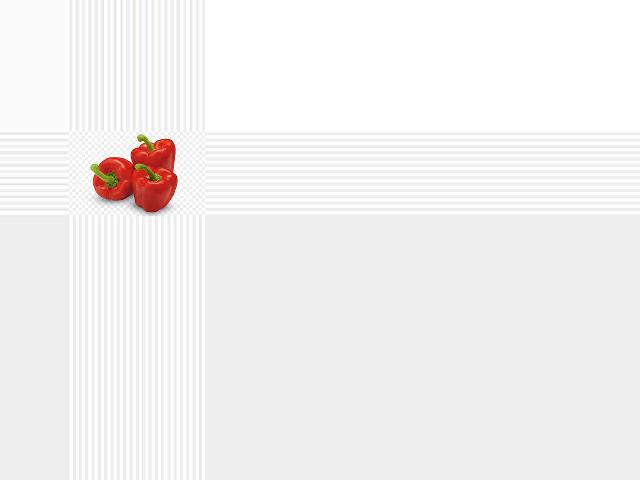bell_pepper: (87, 151, 138, 204)
